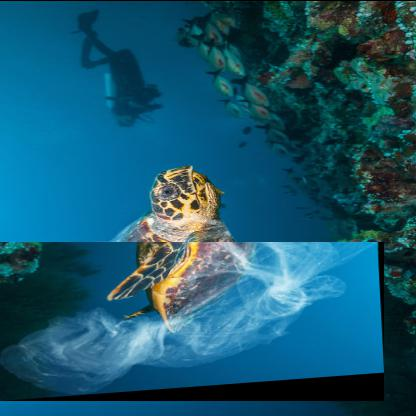plastic-bag: (0, 240, 385, 400)
